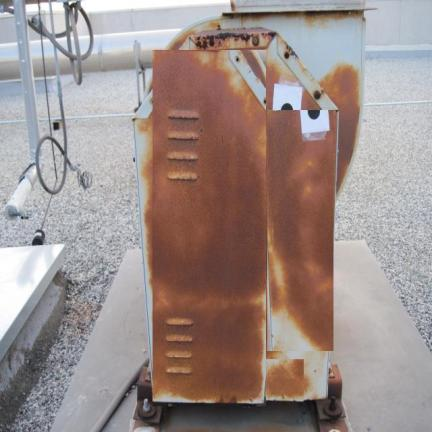karat: (146, 51, 266, 402), (266, 112, 339, 352)
